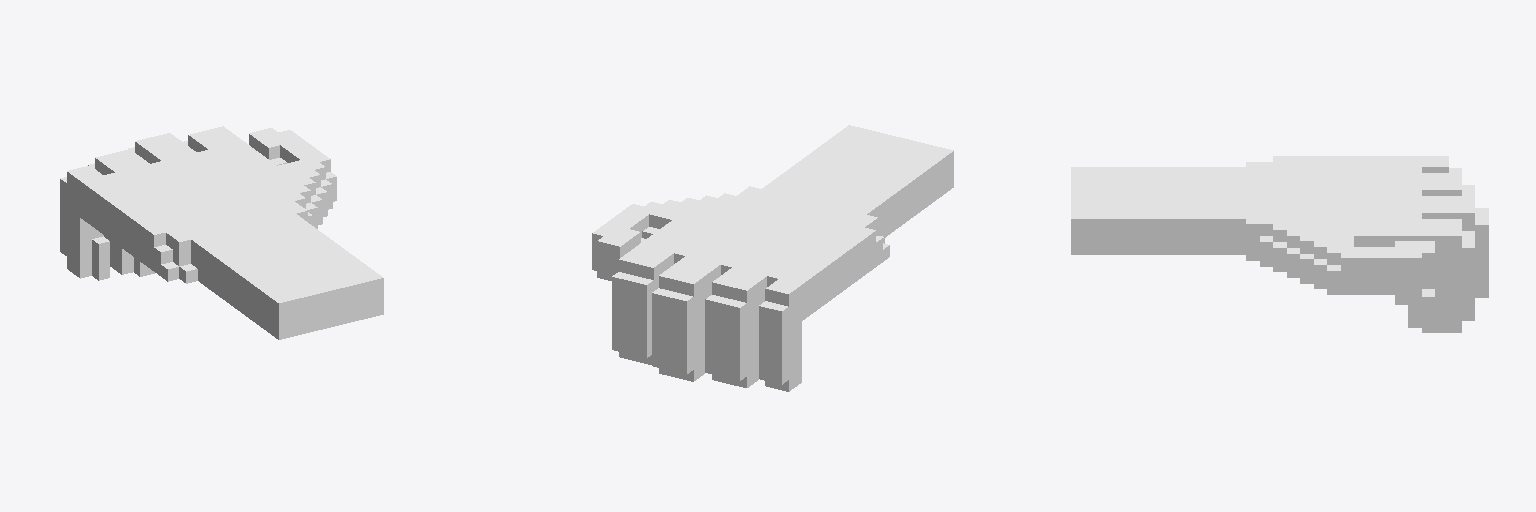
File: lhand2.obj
The picture shows the model from 3 angles: view 1: azimuth 30°, elevation 25°; view 2: azimuth 150°, elevation 25°; view 3: azimuth 270°, elevation 25°; orthographic projection.
Parts seen in each view (by area): view 1: object 1; view 2: object 1; view 3: object 1.
Boxes of the visible parts, <box> form: object 1: <box>60,126,383,339</box>; object 1: <box>592,125,953,391</box>; object 1: <box>1071,156,1488,332</box>.
Bounding box in the file's own units: 1.8 × 0.8 × 3.1.